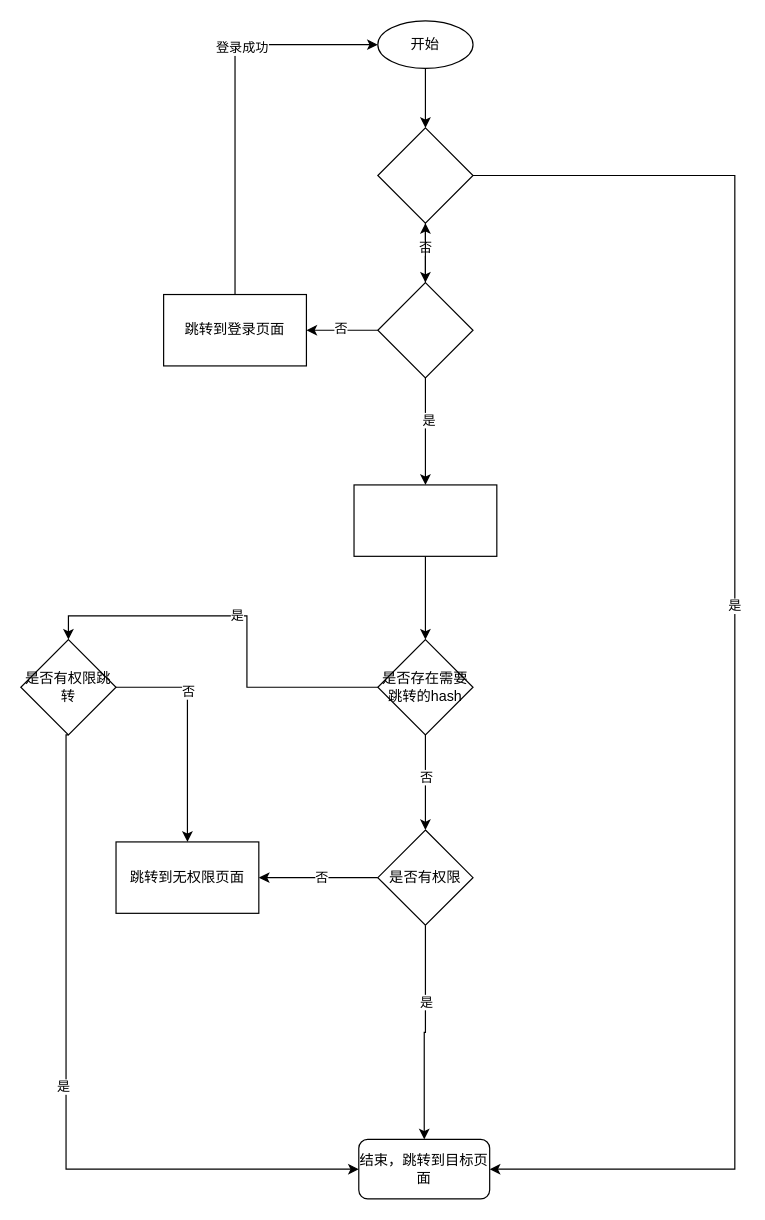
This 765x1220 diagram has some shape labels left out. Here are the shapes that lost their labels. From the top down, the centre of each, then its label:
(x=425, y=175): 是否是白名单
(x=425, y=329): 是否已登录
(x=425, y=520): 获取用户信息
